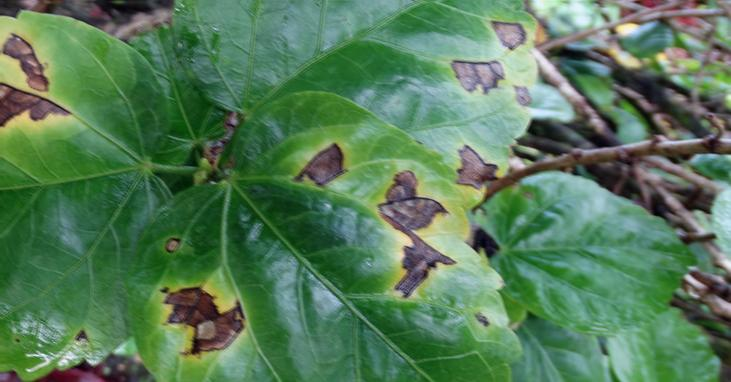Tomato Septoria leaf spot: (126, 106, 523, 382), (0, 6, 168, 367)
